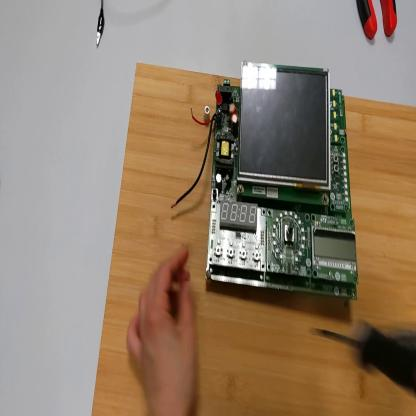hand: (127, 242, 207, 413)
low voltage board: (171, 63, 366, 323)
pliers: (357, 2, 398, 40)
screwdriver-: (311, 323, 416, 396)
working area: (90, 60, 416, 416)
